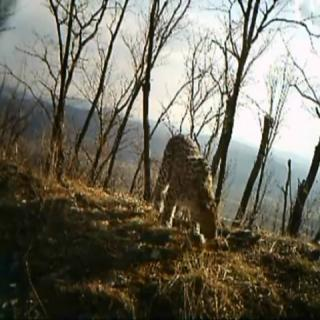Leopard: (141, 116, 228, 259)
